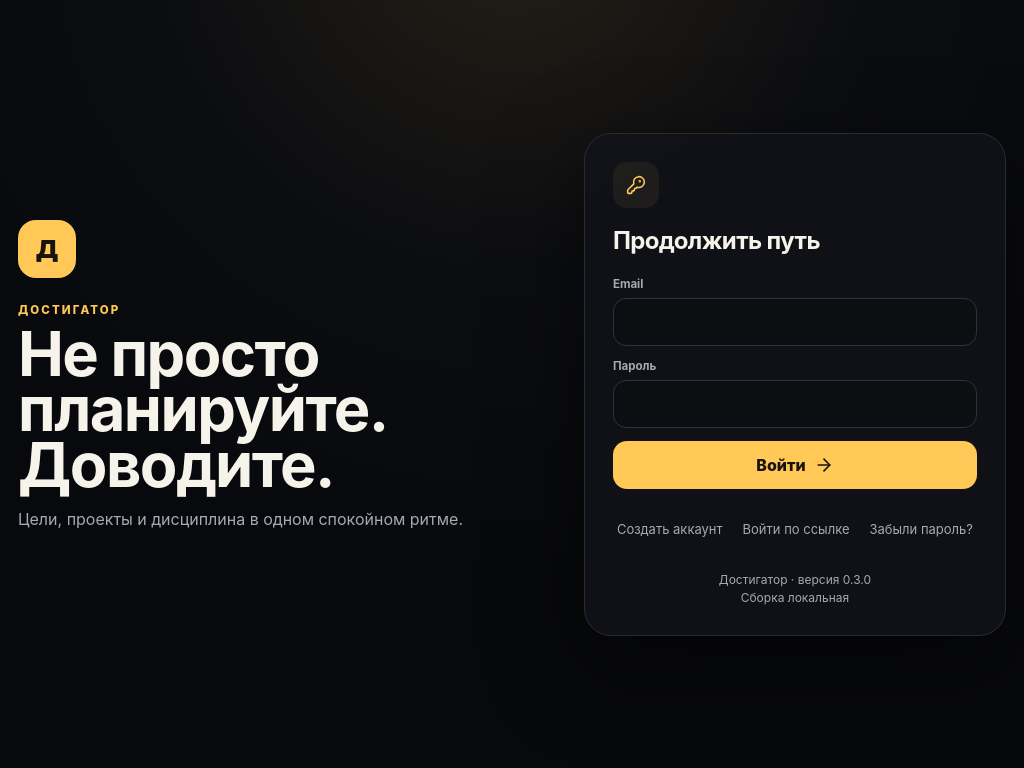
Test: LoginPage open registration › blocks double submit and mode changes until signup resolves
Click the button "Создать аккаунт": (670, 528) [613,506,727,550]
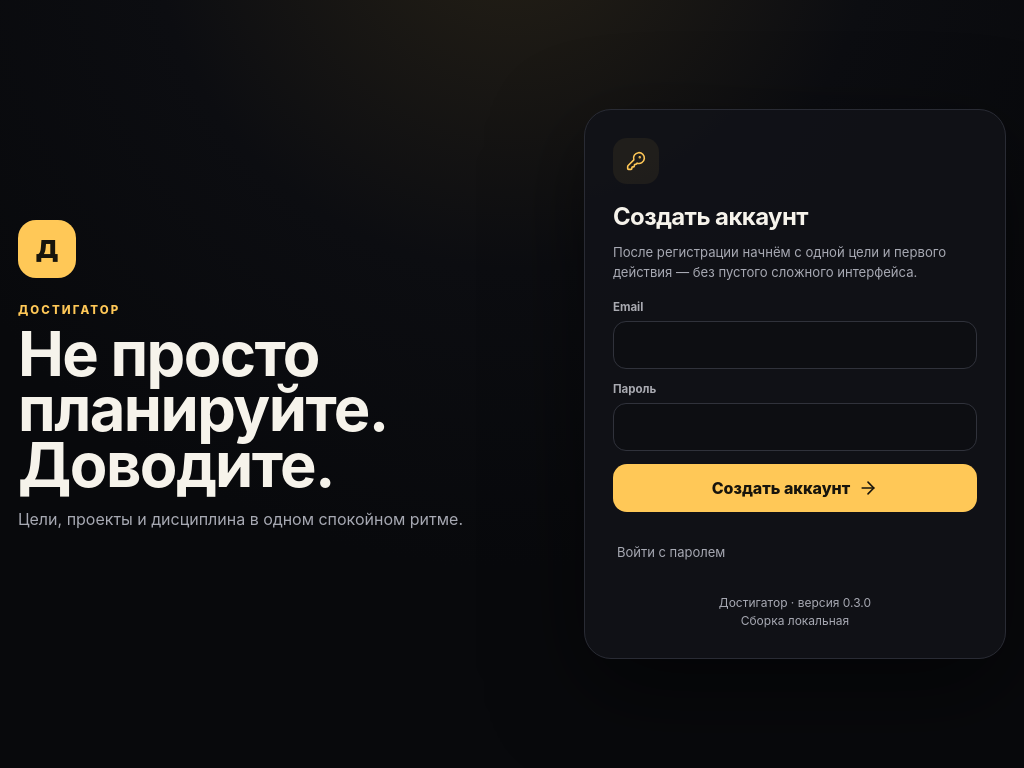
In the field labelled "Email": (795, 345) [613,321,977,369], type "new@example.com"
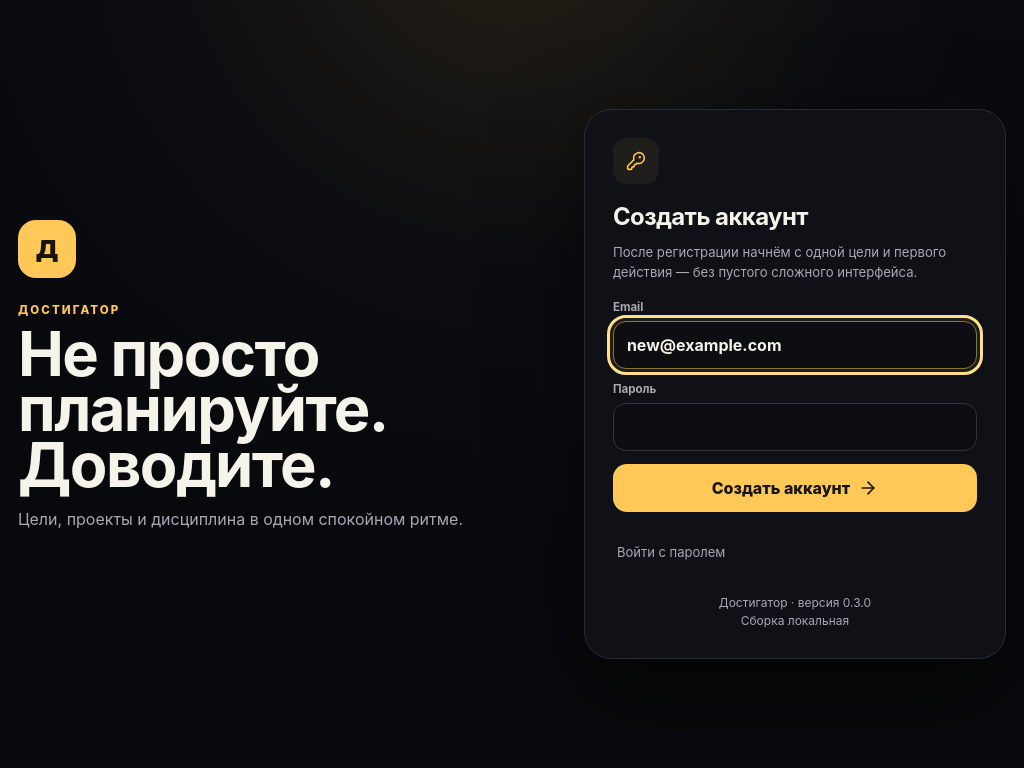
In the password field labelled "Пароль": (795, 427) [613,403,977,451], type "strong-password"
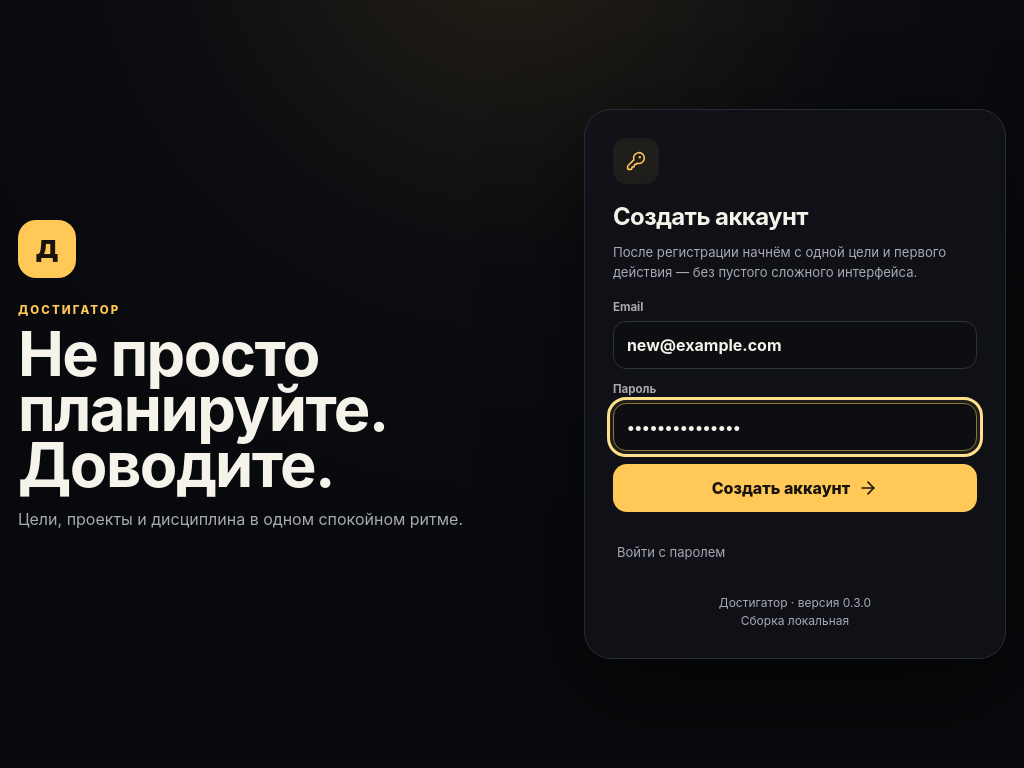
Click the button "Создать аккаунт": (795, 488) [613,464,977,512]
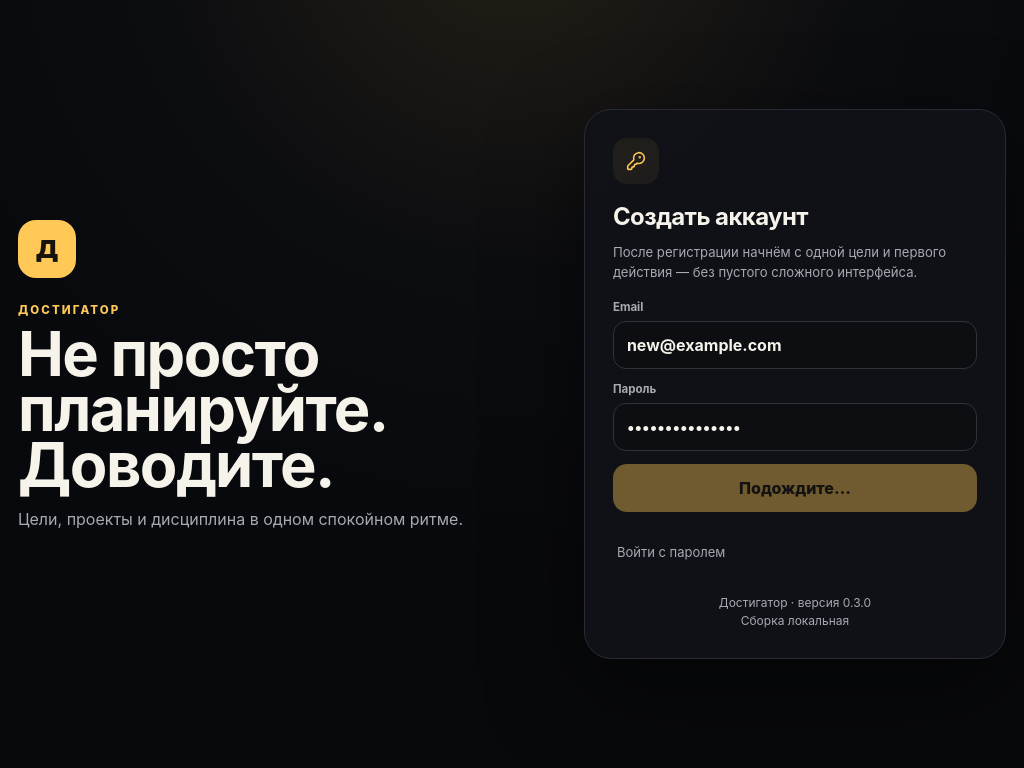
expect the button "Войти с паролем" is disabled: met, box [613,530,729,574]
expect the button "Подождите…" is disabled: met
Click the button "Подождите…": (795, 488) [613,464,977,512]
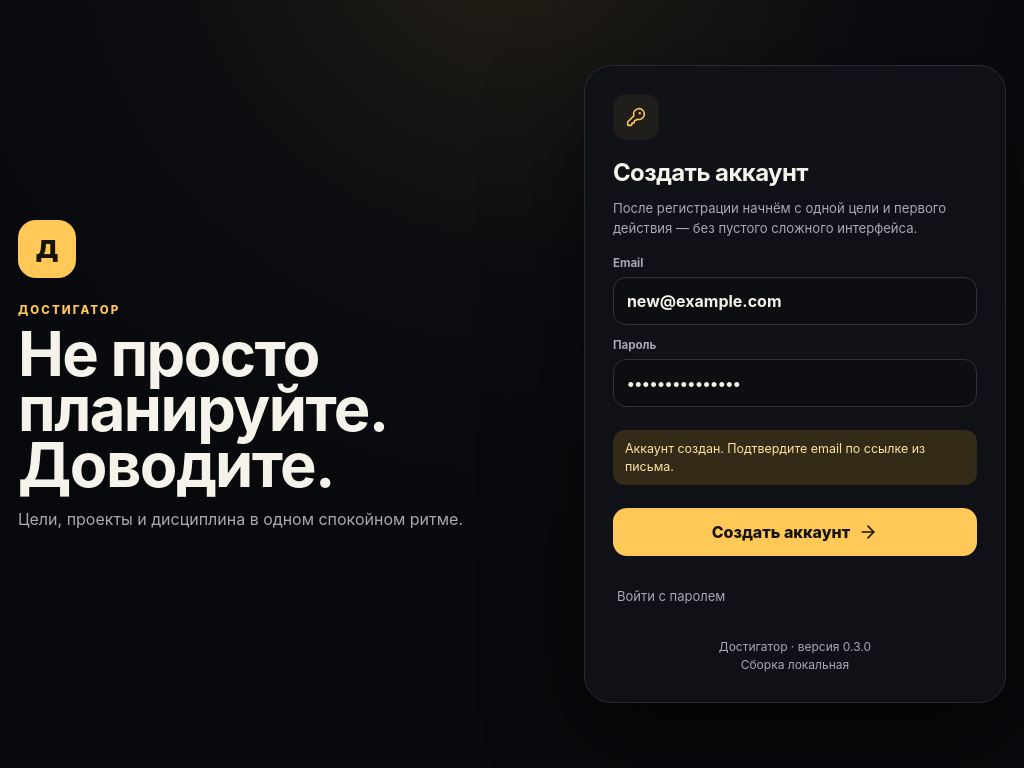
expect the message shows "Подтвердите email": met, box [625,441,925,474]
